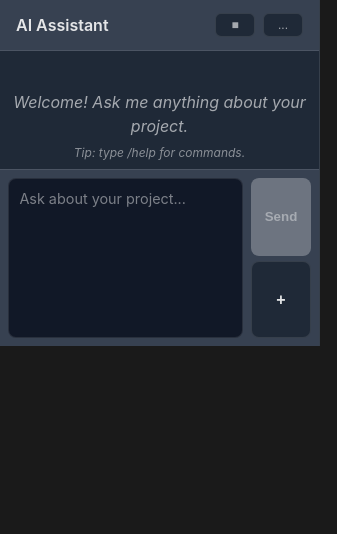
ChatPanel - Autopilot Features › Autopilot messaging and controls › sets guidance success note after sending autopilot message
Type "Trigger autopilot session" into the text box with test id "chat-input". click: (126, 258)
box: [8,178,243,338]
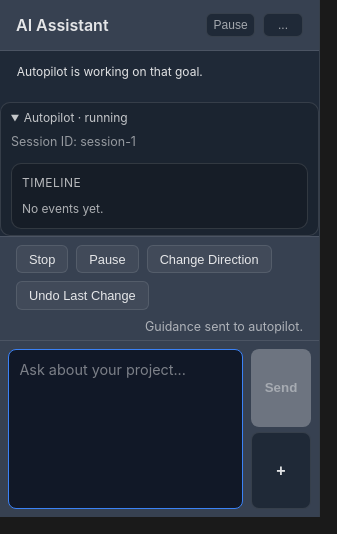
Now the text with test id "autopilot-status-note" reads "Guidance sent to autopilot.", box [145,319,303,334]
